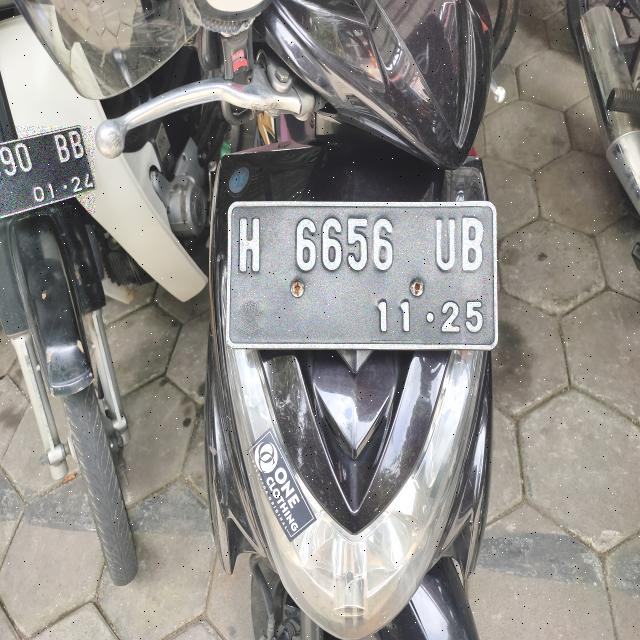plate: (227, 202, 497, 348), (0, 127, 94, 217)
